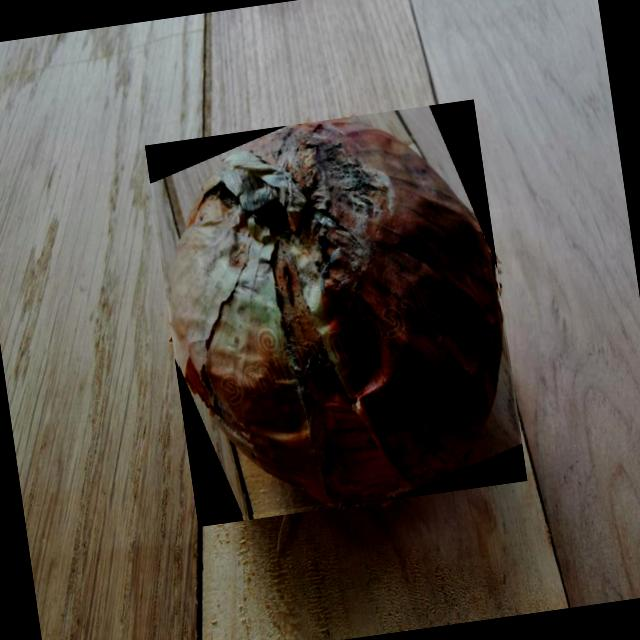rotten: (172, 119, 501, 503)
